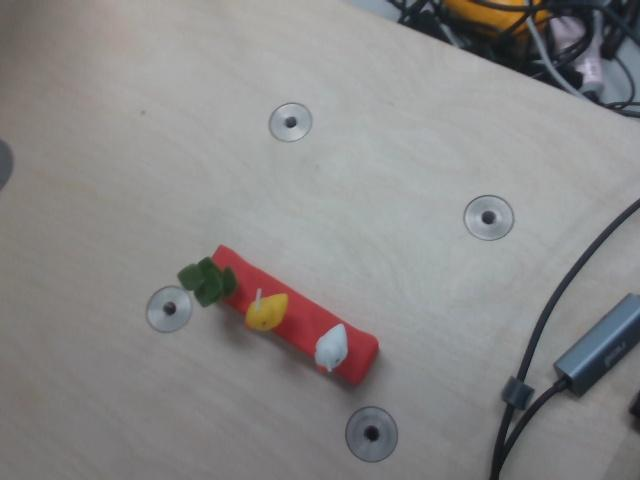leaf: (169, 249, 241, 308)
w_duck: (309, 317, 357, 379)
y_duck: (244, 285, 293, 336)
